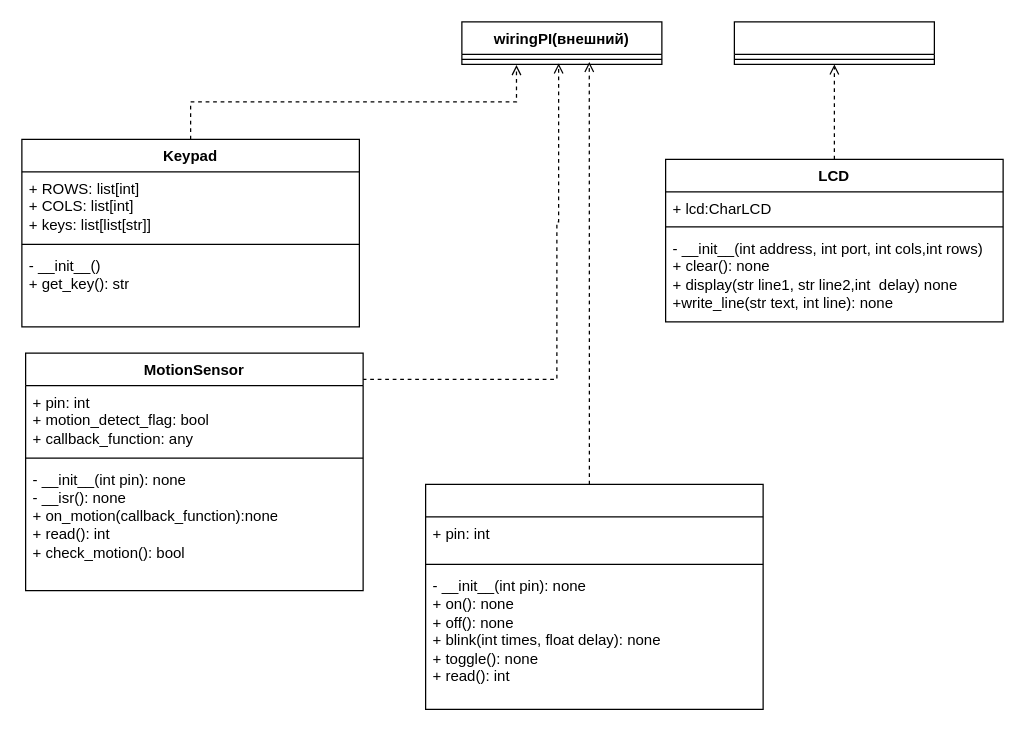
The diagram is 1025 pixels wide and 735 high, and some of its shapes have lost their labels. Here are the shapes that lost their labels. From the top down, the box of each, then its label:
(733, 21, 934, 64): CharLCD(внешний)
(424, 483, 763, 709): PinAction
